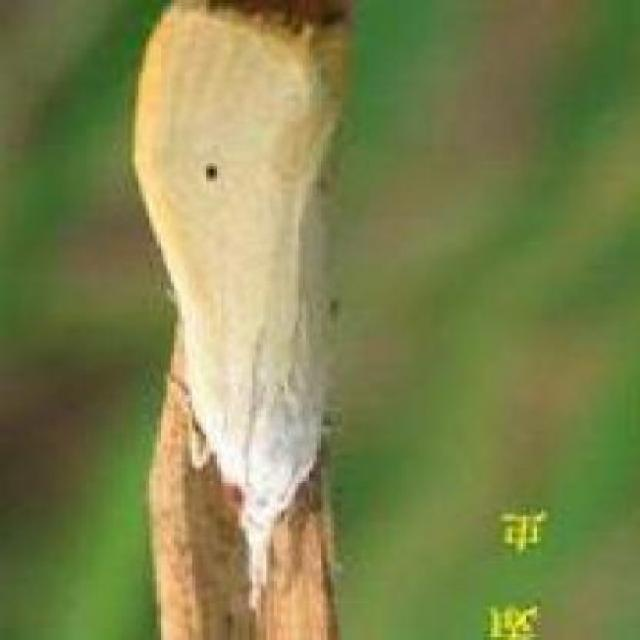stem-borer: (129, 0, 342, 611)
